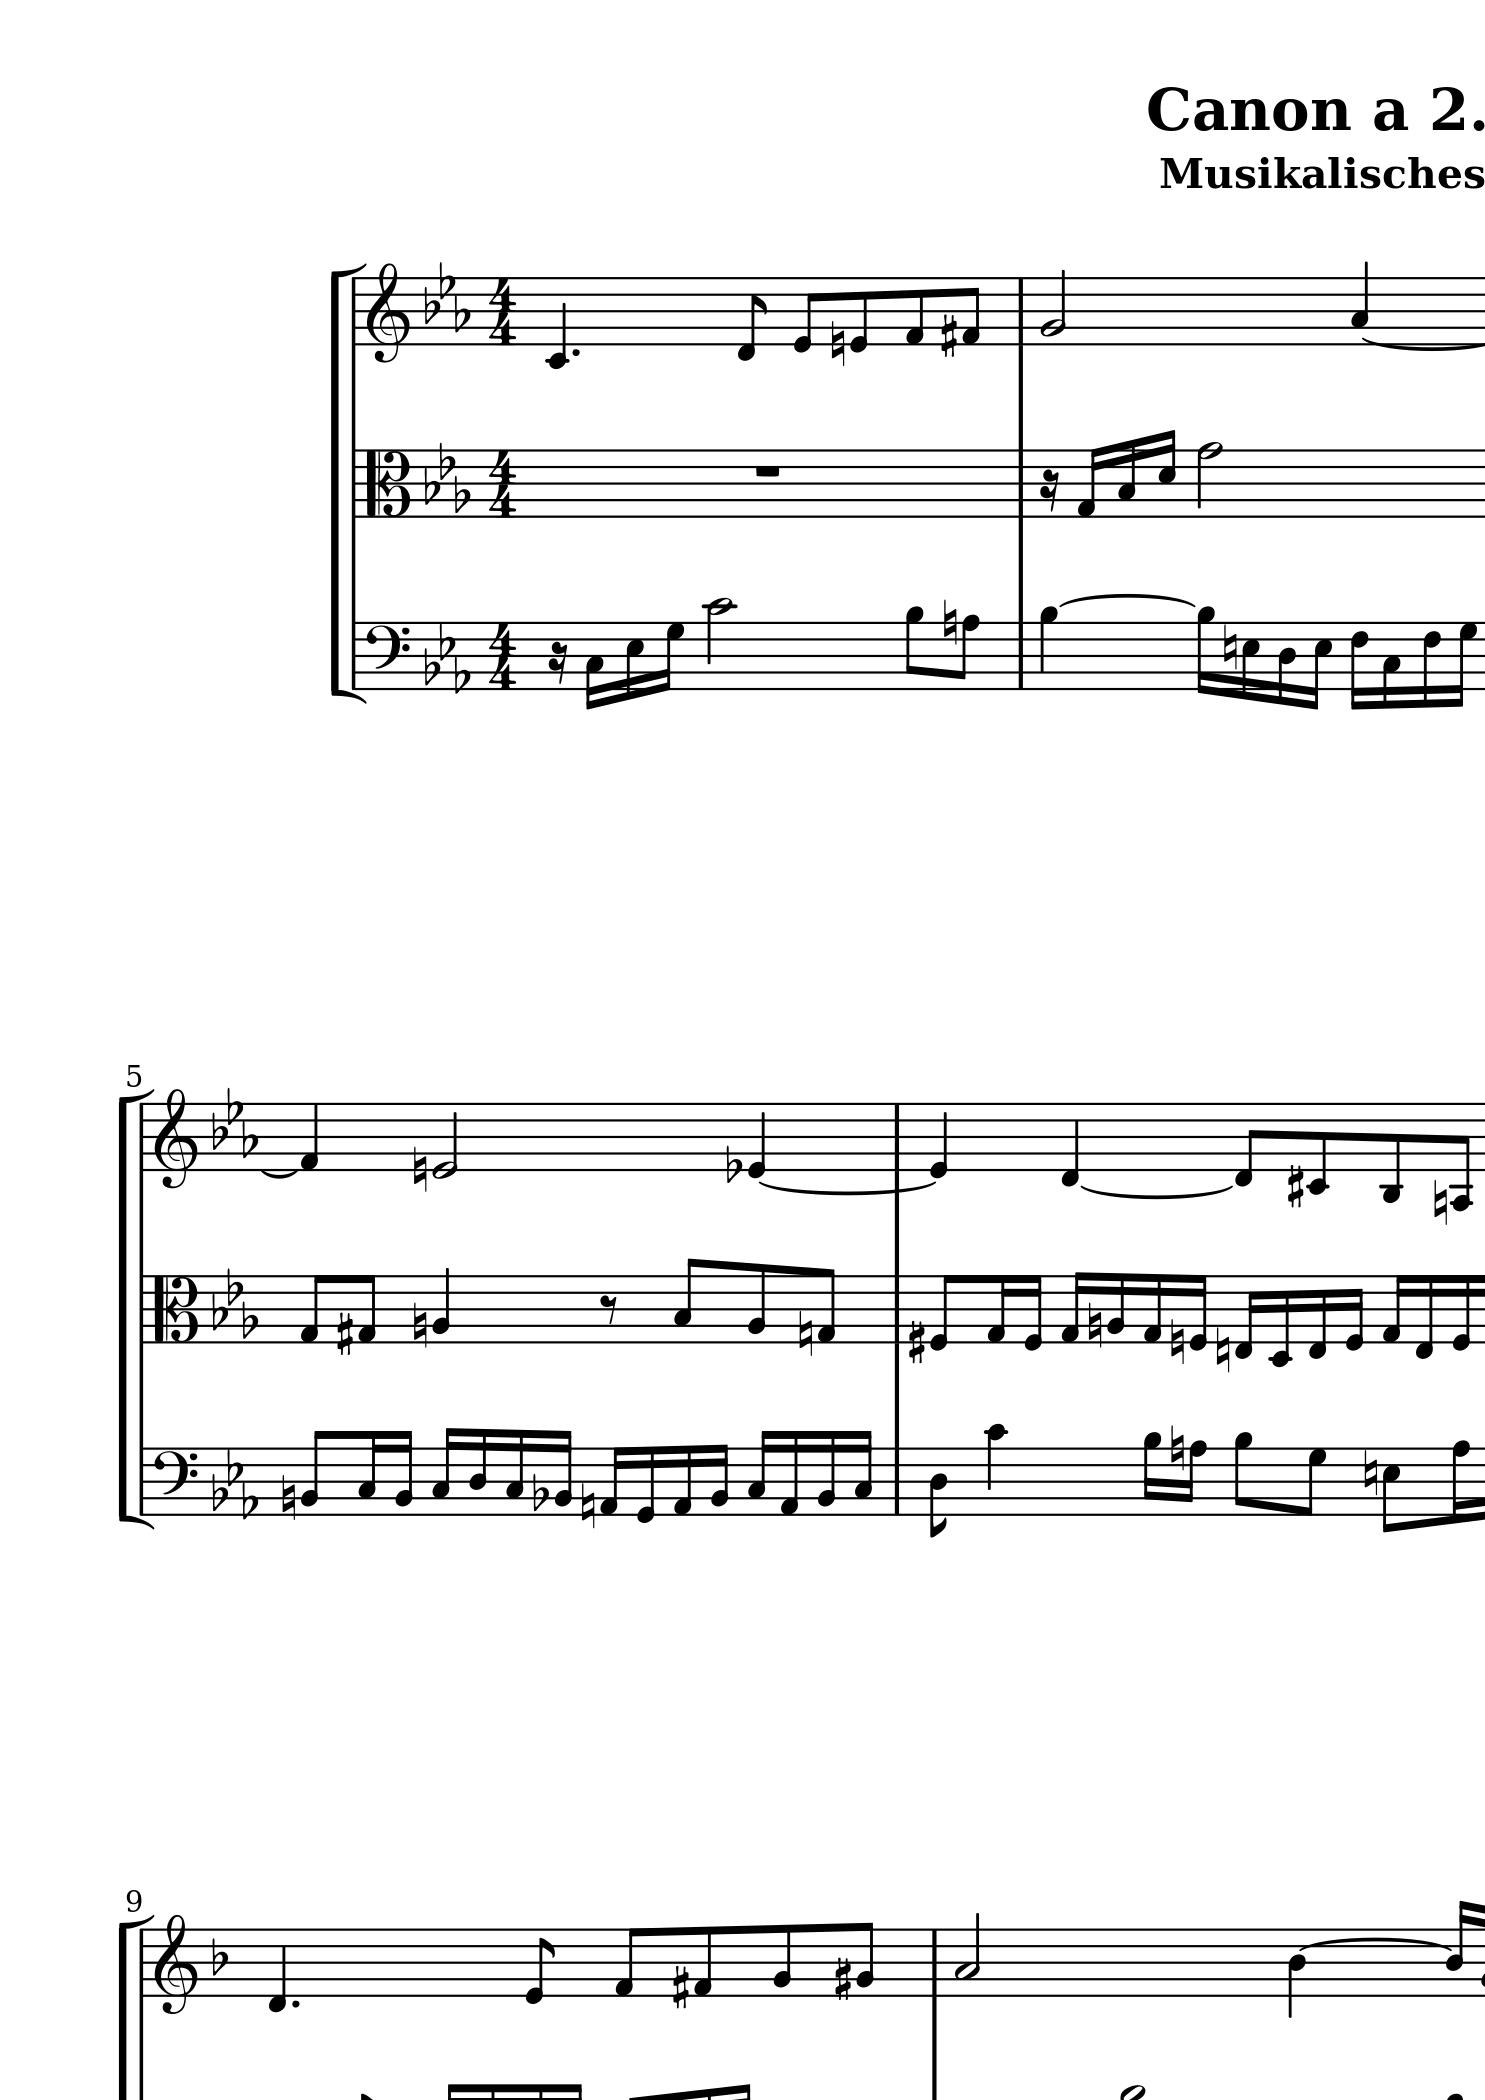16_-1: (1233, 1273, 1258, 1361), (1307, 1273, 1327, 1361), (1413, 1273, 1434, 1359)
16_-2: (1266, 1271, 1291, 1371)
16_0: (1021, 1273, 1043, 1353), (633, 1444, 656, 1525), (1344, 1273, 1364, 1353), (1450, 1273, 1469, 1351), (1188, 1274, 1207, 1351)
16_1: (1075, 445, 1104, 519), (596, 1446, 625, 1518), (776, 1428, 799, 1518), (1057, 1269, 1085, 1343), (1379, 1274, 1406, 1345), (984, 1273, 1009, 1345), (670, 1443, 693, 1518), (1139, 1273, 1162, 1343)
16_2: (391, 1428, 413, 1517), (813, 1428, 836, 1517), (551, 1428, 572, 1515), (707, 1443, 730, 1517), (1104, 1271, 1125, 1345)
16_3: (427, 1427, 458, 1517), (354, 1428, 381, 1517), (744, 1428, 771, 1517), (1379, 619, 1401, 712), (501, 1428, 524, 1515), (583, 619, 604, 712), (852, 1428, 873, 1517), (1114, 439, 1136, 519)
16_4: (1442, 1898, 1472, 1999), (466, 1427, 489, 1518), (1274, 620, 1295, 707)
16_5: (1305, 620, 1332, 712), (1154, 427, 1176, 519), (622, 620, 644, 704), (1241, 620, 1258, 704)
16_6: (1347, 619, 1369, 712), (1421, 619, 1442, 709)
16_7: (1448, 620, 1479, 710), (656, 620, 685, 696)
16_8: (1180, 1440, 1207, 1517), (1450, 1440, 1471, 1525)
16_9: (1139, 1432, 1162, 1517), (1196, 606, 1215, 697)
2_0: (431, 1101, 458, 1179)
2_10: (702, 594, 734, 693)
2_2: (1037, 268, 1067, 345)
2_3: (951, 1912, 980, 1999)
2_8: (1196, 440, 1221, 521)
4: (485, 276, 519, 313), (485, 312, 521, 345), (485, 448, 517, 485), (485, 484, 519, 517), (487, 656, 517, 689), (487, 622, 516, 657)
4_-1: (1056, 1101, 1078, 1187), (264, 1926, 286, 2013)
4_-2: (542, 276, 567, 370)
4_0: (927, 1101, 948, 1179), (746, 1102, 767, 1179)
4_1: (296, 1102, 318, 1171)
4_10: (982, 1422, 1008, 1518)
4_2: (431, 1264, 452, 1345)
4_3: (1348, 260, 1369, 345)
4_4: (1286, 1926, 1307, 2021)
4_9: (1037, 606, 1057, 693)
5: (124, 1064, 145, 1088)
8_-1: (734, 276, 767, 363), (1229, 1101, 1260, 1187)
8_-2: (1305, 1101, 1329, 1197)
8_-3: (1376, 1101, 1403, 1207)
8_-4: (1448, 1101, 1472, 1215)
8_0: (522, 1926, 556, 2005), (927, 1273, 956, 1351), (791, 276, 818, 353), (849, 275, 869, 353)
8_1: (296, 1273, 326, 1345), (611, 1926, 641, 1999), (815, 1266, 836, 1346), (902, 275, 924, 347), (691, 1923, 712, 1999), (355, 1273, 376, 1346), (959, 276, 980, 349)
8_2: (297, 1427, 326, 1517), (744, 1261, 767, 1345), (770, 1923, 792, 1999), (853, 1920, 874, 1999)
8_3: (670, 1256, 701, 1345)
8_4: (926, 1448, 948, 1539)
8_5: (1379, 1446, 1401, 1534)
8_7: (1297, 1446, 1326, 1518)
8_8: (951, 614, 980, 693)
8_9: (902, 606, 926, 693), (1231, 1432, 1254, 1518)
9: (124, 1886, 141, 1914)
Bracke: (117, 1062, 153, 1547), (326, 262, 362, 705)
Cclef: (363, 448, 411, 521), (149, 1273, 198, 1343)
E_F: (419, 260, 472, 336), (209, 1085, 259, 1162), (419, 623, 472, 694), (419, 440, 469, 514), (209, 1448, 259, 1518), (211, 1266, 257, 1338)
Fclef: (151, 1444, 199, 1517), (363, 620, 410, 691)
Flat: (722, 1142, 739, 1186), (209, 1939, 228, 1978), (530, 1472, 546, 1514)
Gclef: (365, 259, 410, 365), (153, 1912, 198, 2016), (153, 1086, 198, 1189)
Natural: (408, 1144, 427, 1195), (1430, 1176, 1450, 1228), (408, 1301, 427, 1350), (1220, 622, 1237, 673), (796, 1308, 813, 1358), (1360, 1448, 1377, 1497), (828, 320, 845, 368), (939, 598, 956, 646), (278, 1473, 296, 1522), (1168, 1316, 1184, 1364), (1213, 1326, 1229, 1374), (1085, 1305, 1102, 1348), (579, 1481, 595, 1528), (1168, 1424, 1184, 1469)
Rests1: (751, 461, 784, 480)
Rests16: (1038, 466, 1061, 513), (546, 638, 567, 686)
Rests8: (596, 1293, 619, 1326)
Sharp: (669, 1963, 689, 2012), (831, 1955, 852, 2004), (937, 312, 956, 362), (1284, 1162, 1303, 1210), (334, 1311, 354, 1359), (906, 1318, 926, 1366)
Single_barline: (886, 1102, 906, 1186), (1009, 278, 1030, 345), (924, 1930, 945, 1997), (1009, 450, 1029, 517), (1011, 622, 1030, 689), (133, 1104, 153, 1171), (886, 1276, 905, 1343), (886, 1448, 905, 1515), (133, 1930, 153, 1997), (346, 278, 363, 345), (132, 1276, 149, 1343), (346, 450, 362, 517), (346, 623, 362, 689), (133, 1449, 149, 1515)
Slur: (755, 1179, 942, 1197), (1078, 1179, 1234, 1199), (1056, 593, 1196, 607), (260, 1170, 299, 1179)
TimeSig: (485, 276, 521, 345), (485, 448, 519, 517), (487, 620, 519, 691)
dot: (567, 345, 582, 360), (288, 1997, 301, 2010)
